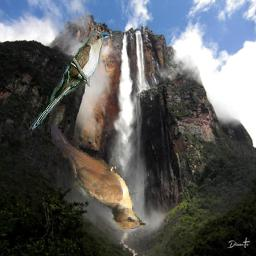Cuckoo: (52, 125, 147, 229), (30, 31, 111, 134)
